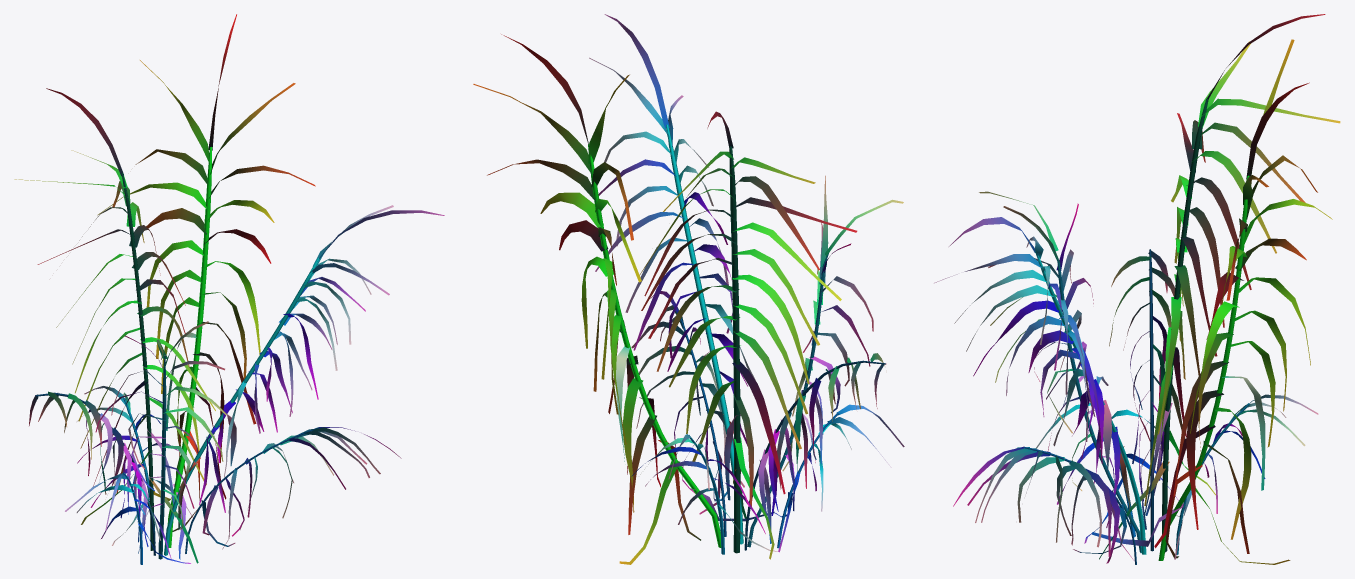
Rendered from Giant_Reed_sjllX_Mid_sjllX_VarA_LOD0.fbx.
The picture shows the model from 3 angles, left to right: view 1: azimuth 30°, elevation 25°; view 2: azimuth 150°, elevation 25°; view 3: azimuth 270°, elevation 25°; orthographic projection. The views are drawn at different scales.
Visible parts, largest first — view 1: _49a6_VarA_LOD1; view 2: _49a6_VarA_LOD1; view 3: _49a6_VarA_LOD1.
Part boxes in pixels (left/top/right/bottom): _49a6_VarA_LOD1: left=14, top=14, right=444, bottom=564; _49a6_VarA_LOD1: left=473, top=14, right=904, bottom=564; _49a6_VarA_LOD1: left=934, top=14, right=1340, bottom=564.
Bounding box in the file's own units: 191 × 256 × 170.
